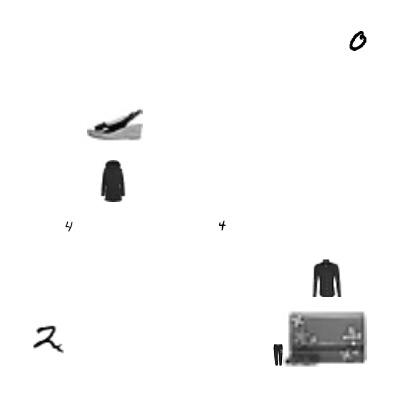0: (344, 27, 372, 55)
2: (26, 317, 68, 359)
4: (215, 218, 229, 232), (62, 219, 76, 233)
Bag: (283, 297, 367, 381)
Coat: (92, 160, 134, 202)
Sandal: (87, 96, 143, 152)
Shirt: (305, 258, 347, 300)
Trouser: (267, 344, 289, 366)
